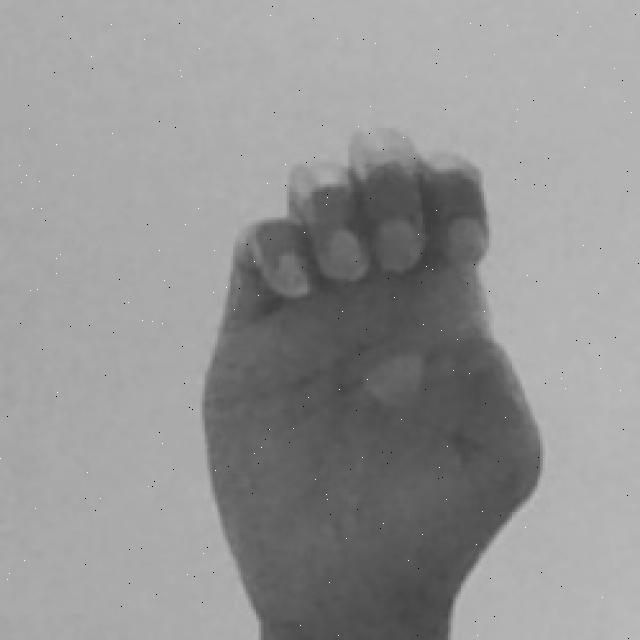E: (207, 120, 543, 640)
